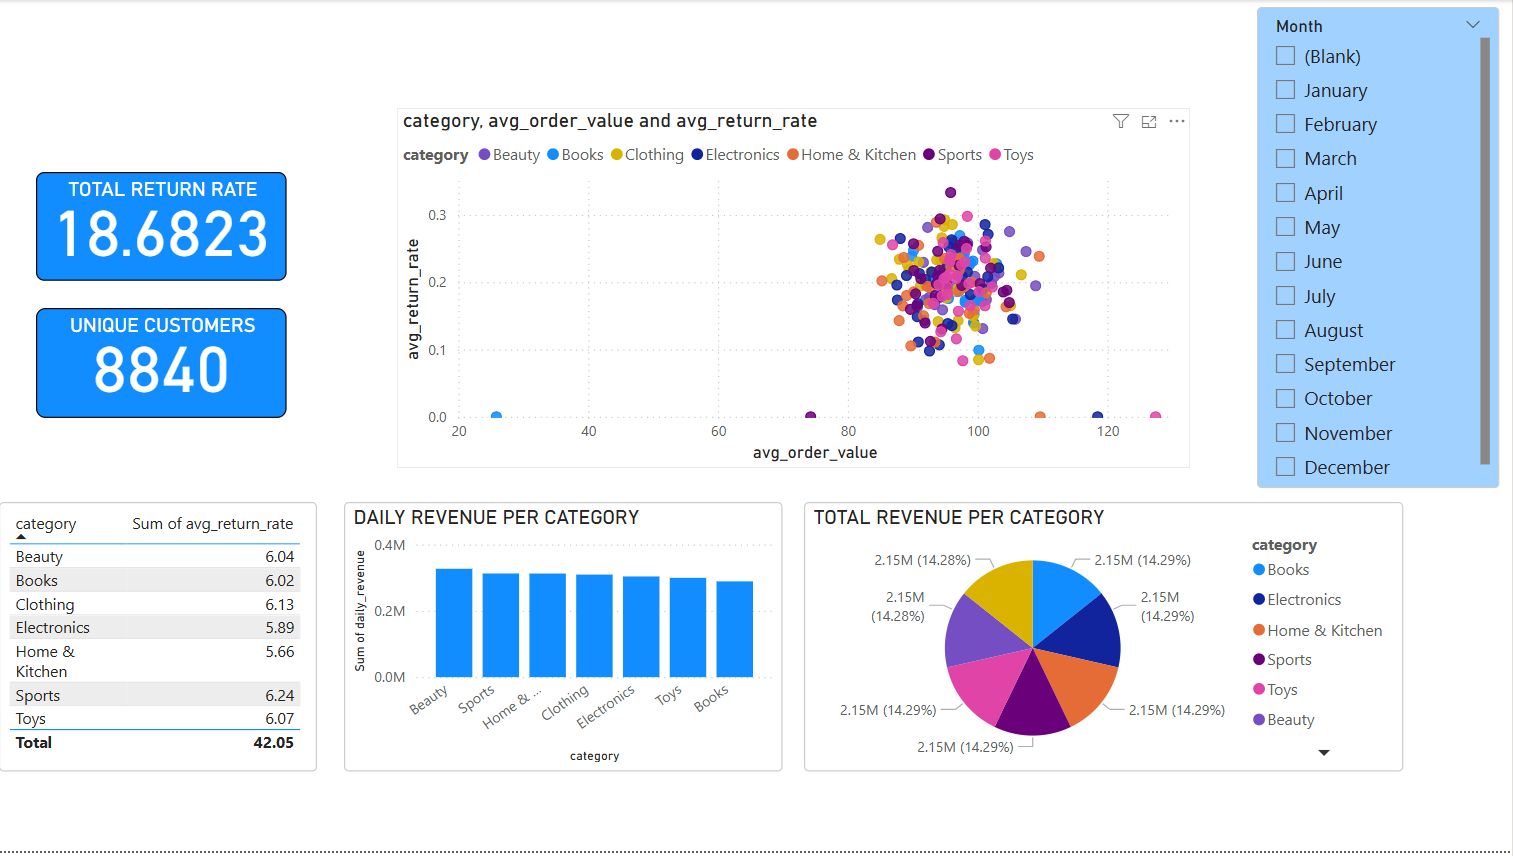

This screenshot's page, from the dashboard's own definition file:
{"tool":"powerbi","page":{"name":"Page 1","canvas":[1280,720],"ordinal":1},"visuals":[{"type":"columnChart","title":"DAILY REVENUE PER CATEGORY","fields":{"Y":["Sum(results.daily_revenue)"],"Category":["results.category"]},"box":[291.9,424.7,371.4,228.4],"z":0},{"type":"scatterChart","fields":{"X":["results.avg_order_value"],"Y":["results.avg_return_rate"],"Series":["results.category"]},"box":[336.7,91.4,670.9,304.6],"z":1000},{"type":"pieChart","title":"TOTAL REVENUE PER CATEGORY","fields":{"Category":["results.category"],"Y":["Sum(results (1).total_revenue)"]},"box":[681,424.7,506.8,228.4],"z":2000},{"type":"card","title":"UNIQUE CUSTOMERS","fields":{"Values":["Sum(results (1).unique_customers)"]},"box":[31.3,260.6,212.3,93.1],"z":3000},{"type":"card","title":"TOTAL RETURN RATE","fields":{"Values":["Sum(results (1).return_rate)"]},"box":[31.3,145.5,212.3,92.2],"z":4000},{"type":"tableEx","fields":{"Values":["results.category","Sum(results.avg_return_rate)"]},"box":[0,424.7,269,228.4],"z":5000},{"type":"slicer","fields":{"Values":["results (1).order_date.Variation.Date Hierarchy.Month"]},"box":[1033.3,5.8,235.3,419.4],"z":6000}]}

Visuals, with their boxes in screenshot pixels (x1, y1, x2, y2), scaled from the page's 1280x720 canvas onto the 1513x856 screenshot:
"DAILY REVENUE PER CATEGORY" columnChart: 345/505/784/776
scatterChart - results.avg_order_value x results.avg_return_rate: 398/109/1191/471
"TOTAL REVENUE PER CATEGORY" pieChart: 805/505/1404/776
"UNIQUE CUSTOMERS" card: 37/310/288/421
"TOTAL RETURN RATE" card: 37/173/288/283
tableEx - results.category x Sum(results.avg_return_rate): 0/505/318/776
slicer - results (1).order_date.Variation.Date Hierarchy.Month: 1221/7/1500/506
